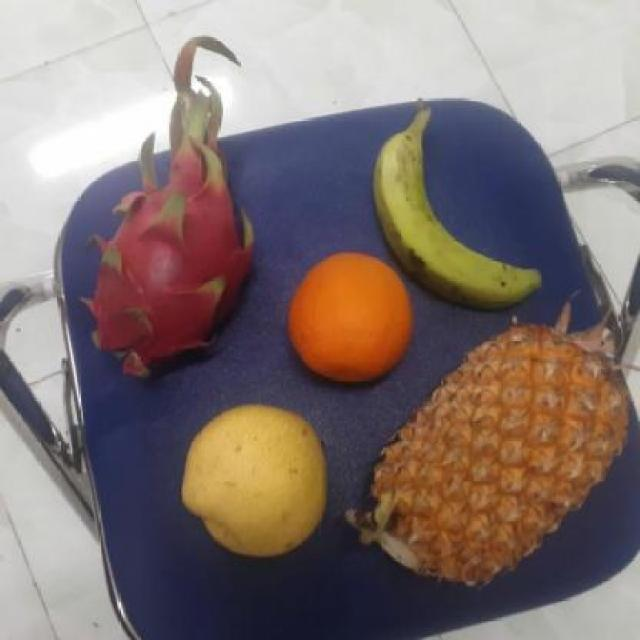banana: (373, 108, 544, 312)
dragon fruit: (76, 141, 266, 381)
oren: (280, 248, 417, 384)
pear: (180, 403, 334, 555)
pineapple: (358, 328, 637, 592)
